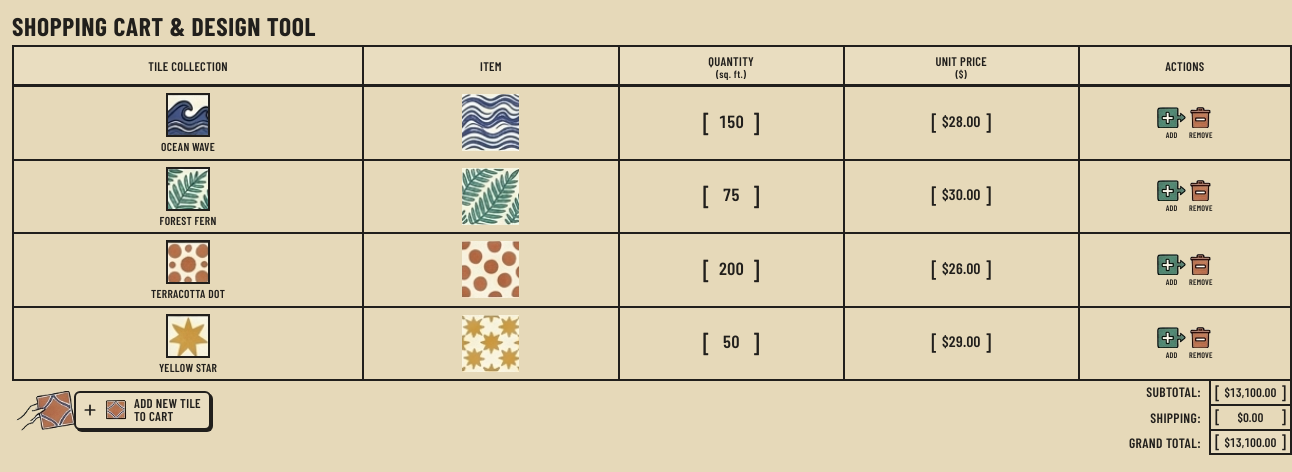
Test: <ShoppingCart /> › explains the actions in a tooltip on hover
Hover over the button with aria-label "Add 1 box of Ocean Wave": (1172, 123) [1157,107,1186,139]
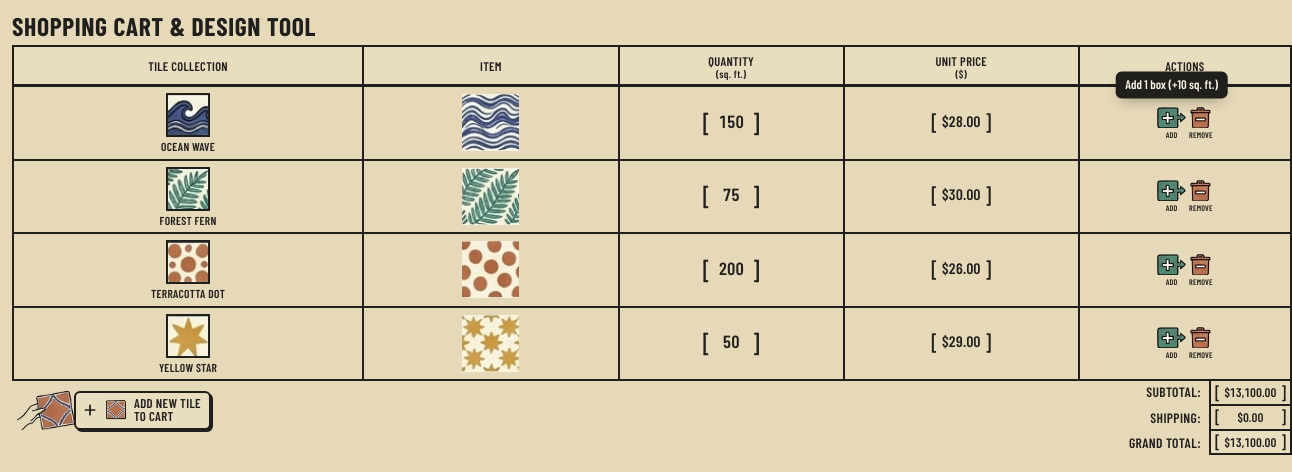
Expected: the tooltip reads "Add 1 box (+10 sq. ft.)", [1125,77,1218,91]
